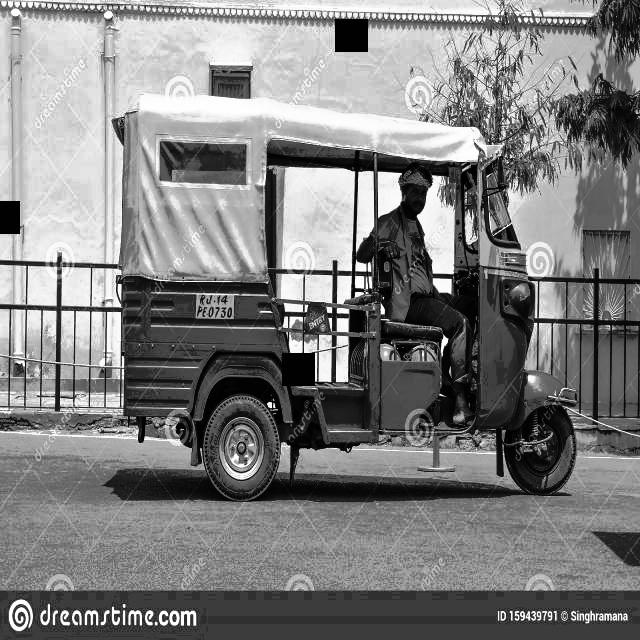Auto-Rickshaw: (103, 74, 588, 519)
